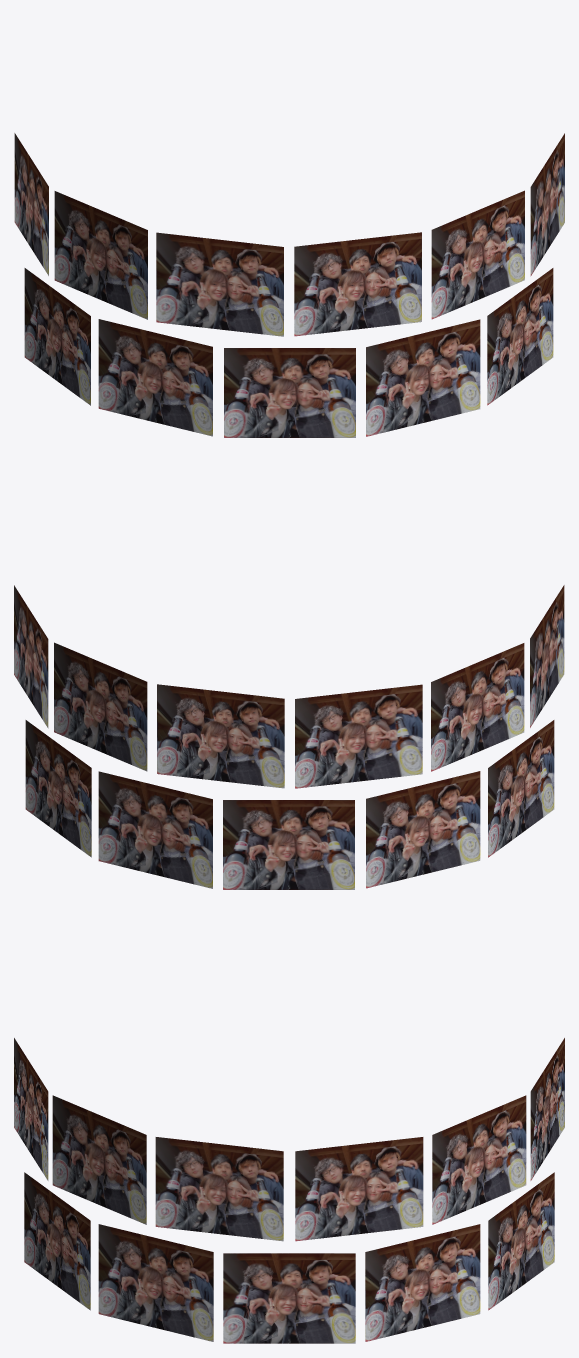
The model's file is Photo.glb.
The picture shows the model from 3 angles, top to bottom: view 1: azimuth 30°, elevation 25°; view 2: azimuth 150°, elevation 25°; view 3: azimuth 270°, elevation 25°; orthographic projection.
Visible parts, largest first — view 1: 平面15, 平面14, 平面16, 平面13, 平面17, 平面12, 平面18, 平面19, 平面11, 平面10, 平面20; view 2: 平面23, 平面24, 平面22, 平面01, 平面21, 平面02, 平面20, 平面19, 平面03, 平面04, 平面18; view 3: 平面07, 平面08, 平面06, 平面09, 平面05, 平面04, 平面10, 平面11, 平面03, 平面02, 平面12.
Part boxes in pixels (x1=…): 平面15: x1=224, y1=348, x2=355, y2=437; 平面14: x1=294, y1=232, x2=421, y2=336; 平面16: x1=156, y1=232, x2=283, y2=336; 平面13: x1=366, y1=319, x2=480, y2=436; 平面17: x1=98, y1=319, x2=212, y2=436; 平面12: x1=431, y1=190, x2=524, y2=319; 平面18: x1=54, y1=191, x2=147, y2=319; 平面19: x1=24, y1=268, x2=90, y2=405; 平面11: x1=487, y1=268, x2=553, y2=405; 平面10: x1=530, y1=133, x2=564, y2=276; 平面20: x1=14, y1=133, x2=48, y2=275; 平面23: x1=223, y1=800, x2=354, y2=889; 平面24: x1=157, y1=684, x2=284, y2=788; 平面22: x1=295, y1=684, x2=422, y2=788; 平面01: x1=98, y1=771, x2=212, y2=888; 平面21: x1=366, y1=771, x2=480, y2=888; 平面02: x1=54, y1=642, x2=147, y2=771; 平面20: x1=431, y1=643, x2=524, y2=771; 平面19: x1=488, y1=720, x2=554, y2=857; 平面03: x1=25, y1=720, x2=91, y2=857; 平面04: x1=14, y1=585, x2=48, y2=728; 平面18: x1=530, y1=585, x2=564, y2=727; 平面07: x1=223, y1=1253, x2=355, y2=1343; 平面08: x1=155, y1=1137, x2=283, y2=1241; 平面06: x1=295, y1=1137, x2=423, y2=1241; 平面09: x1=98, y1=1224, x2=213, y2=1341; 平面05: x1=365, y1=1224, x2=480, y2=1341; 平面04: x1=432, y1=1095, x2=526, y2=1224; 平面10: x1=52, y1=1095, x2=146, y2=1224; 平面11: x1=24, y1=1172, x2=90, y2=1310; 平面03: x1=488, y1=1172, x2=554, y2=1310; 平面02: x1=530, y1=1038, x2=564, y2=1180; 平面12: x1=14, y1=1038, x2=48, y2=1180.
Size of the model in its own units: 16.63 by 6.5 by 16.63.
Materials: 24 (24 with a texture image).
